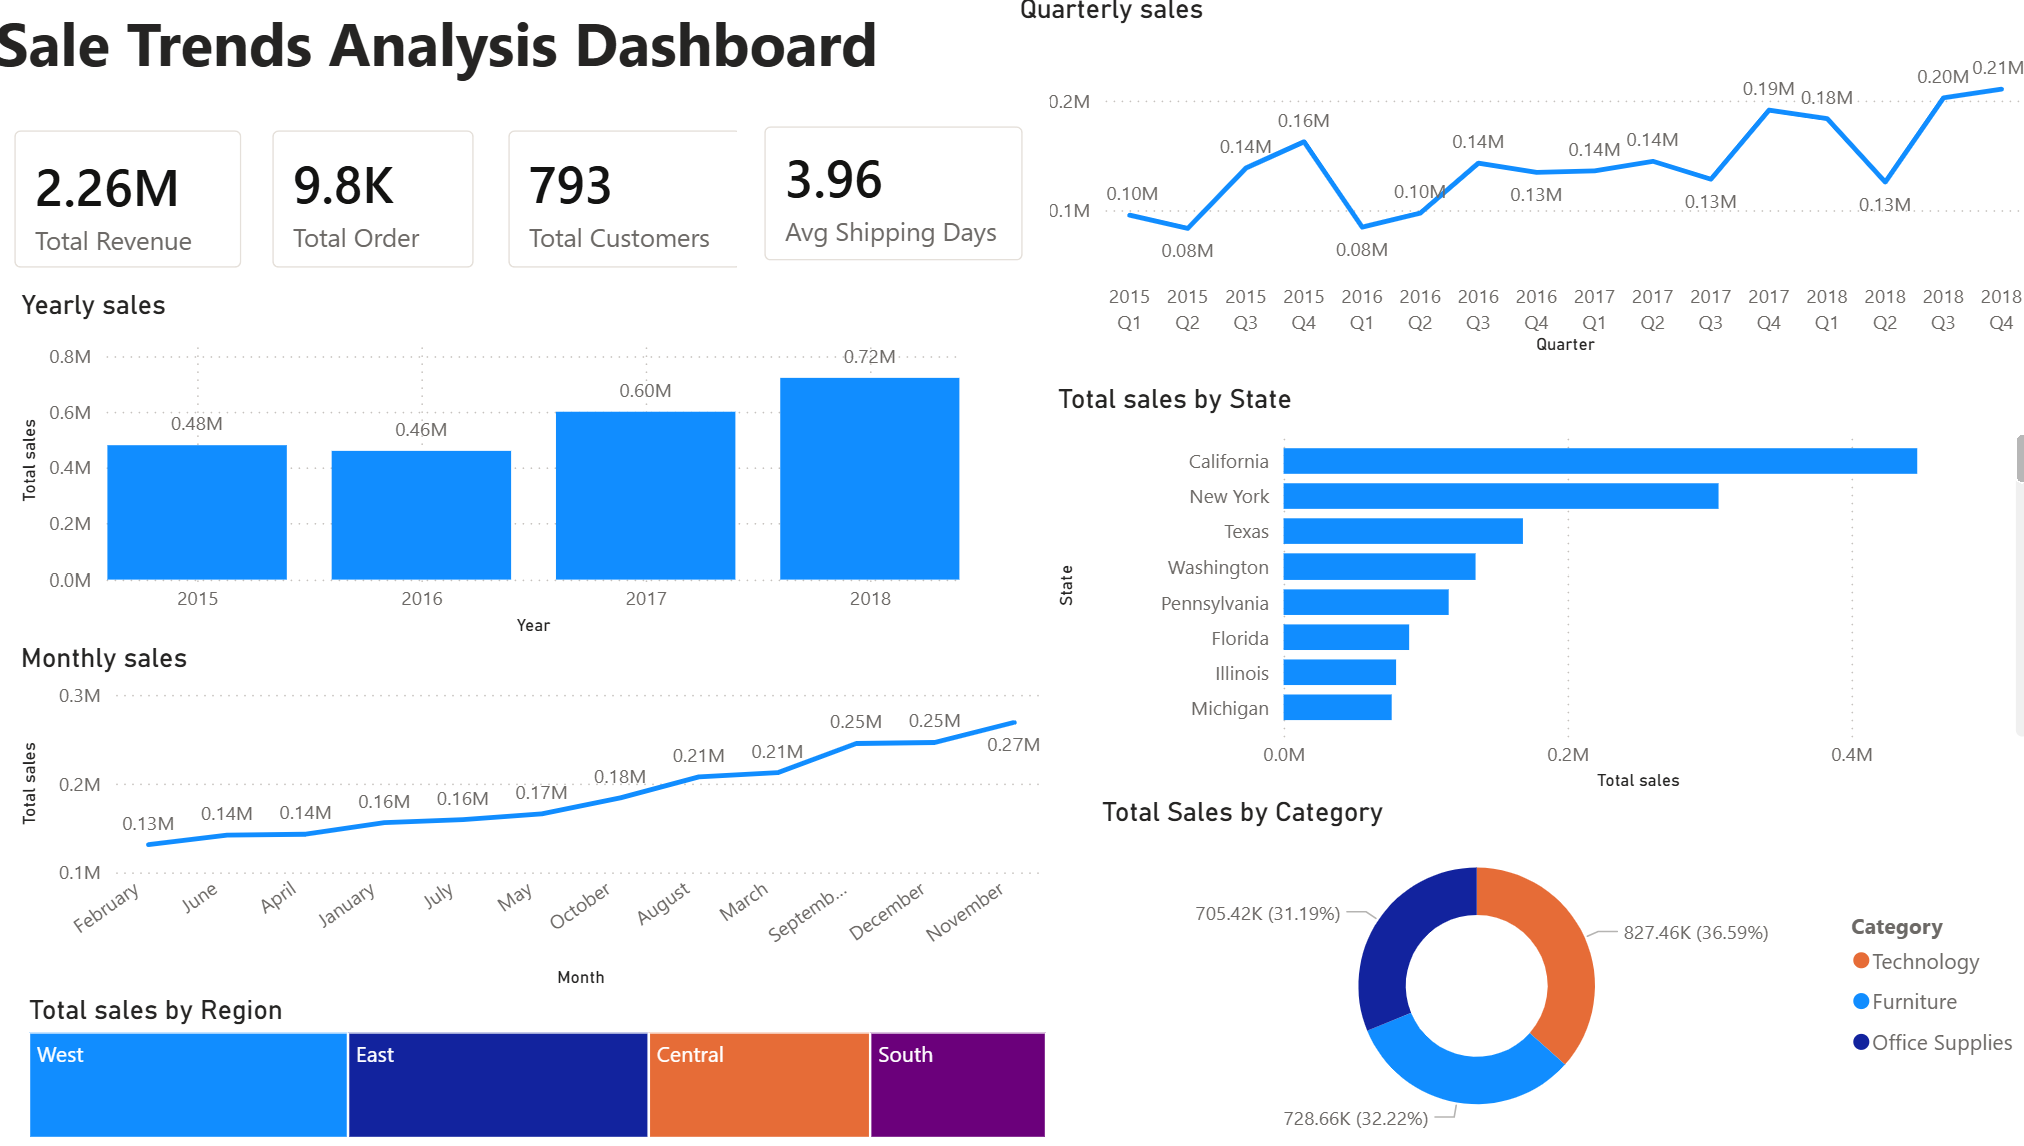

What the dashboard file says about the page in this screenshot:
{"tool":"powerbi","page":{"name":"Executive summary","canvas":[1280,720],"ordinal":0},"visuals":[{"type":"cardVisual","fields":{"Data":["Sum(Sheet1.Sales)"]},"box":[0,68.3,176.7,120],"z":0},{"type":"cardVisual","fields":{"Data":["CountNonNull(Sheet1.Order ID)"]},"box":[161.7,68.3,160,120],"z":1000},{"type":"cardVisual","fields":{"Data":["Count(Sheet1.Customer ID)"]},"box":[308.3,68.3,180,120],"z":2000},{"type":"lineChart","title":"Monthly sales","fields":{"Category":["Sheet1.Month Name"],"Y":["Sum(Sheet1.Sales)"]},"box":[16.7,405,650,220],"z":3000},{"type":"columnChart","title":"Yearly sales","fields":{"Category":["Sheet1.Year"],"Y":["Sum(Sheet1.Sales)"]},"box":[16.7,185,596.7,220],"z":4000},{"type":"lineChart","title":"Quarterly sales","fields":{"Category":["Sheet1.Year Quarter"],"Y":["Sum(Sheet1.Sales)"]},"box":[640,0,640,230],"z":5000},{"type":"cardVisual","fields":{"Data":["Avg(Sheet1.Shipping Days)"]},"box":[468.3,66.7,195,118.3],"z":6000},{"type":"treemap","title":"Total sales by Region","fields":{"Group":["Sheet1.Region"],"Values":["Sum(Sheet1.Sales)"]},"box":[21.7,625,645,95],"z":7000},{"type":"donutChart","fields":{"Category":["Sheet1.Category"],"Y":["Sum(Sheet1.Sales)"]},"box":[691.7,501.7,588.3,218.3],"z":8000},{"type":"clusteredBarChart","fields":{"Category":["Sheet1.State"],"Y":["Sum(Sheet1.Sales)"]},"box":[663.3,243.3,616.7,258.3],"z":9000},{"type":"textbox","box":[0,0,641.7,68.3],"z":10000}]}

Visuals, with their boxes in screenshot pixels (x1, y1, x2, y2), scaled from the page's 1280x720 canvas onto the 2024x1146 screenshot:
cardVisual - Sum(Sheet1.Sales): 0:109:279:300
cardVisual - CountNonNull(Sheet1.Order ID): 256:109:509:300
cardVisual - Count(Sheet1.Customer ID): 487:109:772:300
"Monthly sales" lineChart: 26:645:1054:995
"Yearly sales" columnChart: 26:294:970:645
"Quarterly sales" lineChart: 1012:0:2023:366
cardVisual - Avg(Sheet1.Shipping Days): 740:106:1049:294
"Total sales by Region" treemap: 34:995:1054:1145
donutChart - Sheet1.Category x Sum(Sheet1.Sales): 1094:799:2023:1145
clusteredBarChart - Sheet1.State x Sum(Sheet1.Sales): 1049:387:2023:798
textbox: 0:0:1015:109
